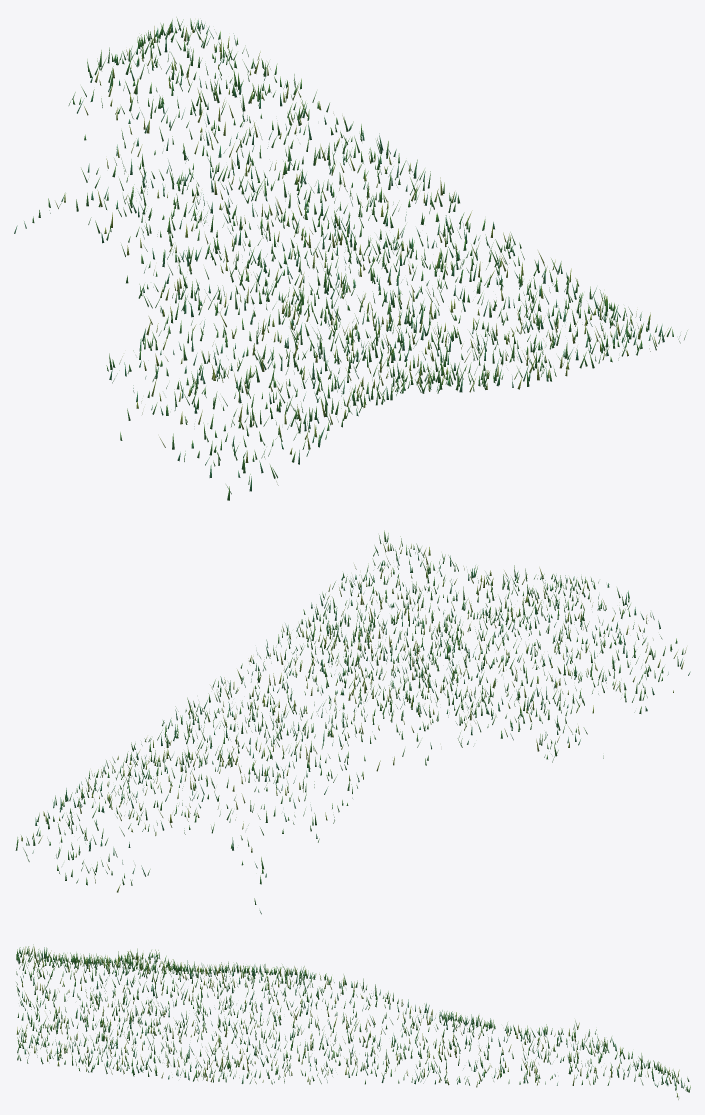
3 renders of one model, top to bottom at view 1: azimuth 30°, elevation 25°; view 2: azimuth 150°, elevation 25°; view 3: azimuth 270°, elevation 25°, orthographic. The views are drawn at different scales.
Parts seen in each view (by area): view 1: gc_47; view 2: gc_47; view 3: gc_47.
Boxes of the visible parts, bbox=[...] form: gc_47: bbox=[14, 17, 687, 500]; gc_47: bbox=[15, 530, 690, 914]; gc_47: bbox=[16, 944, 690, 1099].
Bounding box in the file's own units: 9.18 × 3.27 × 18.11.
Materials: 1 (1 with a texture image).
